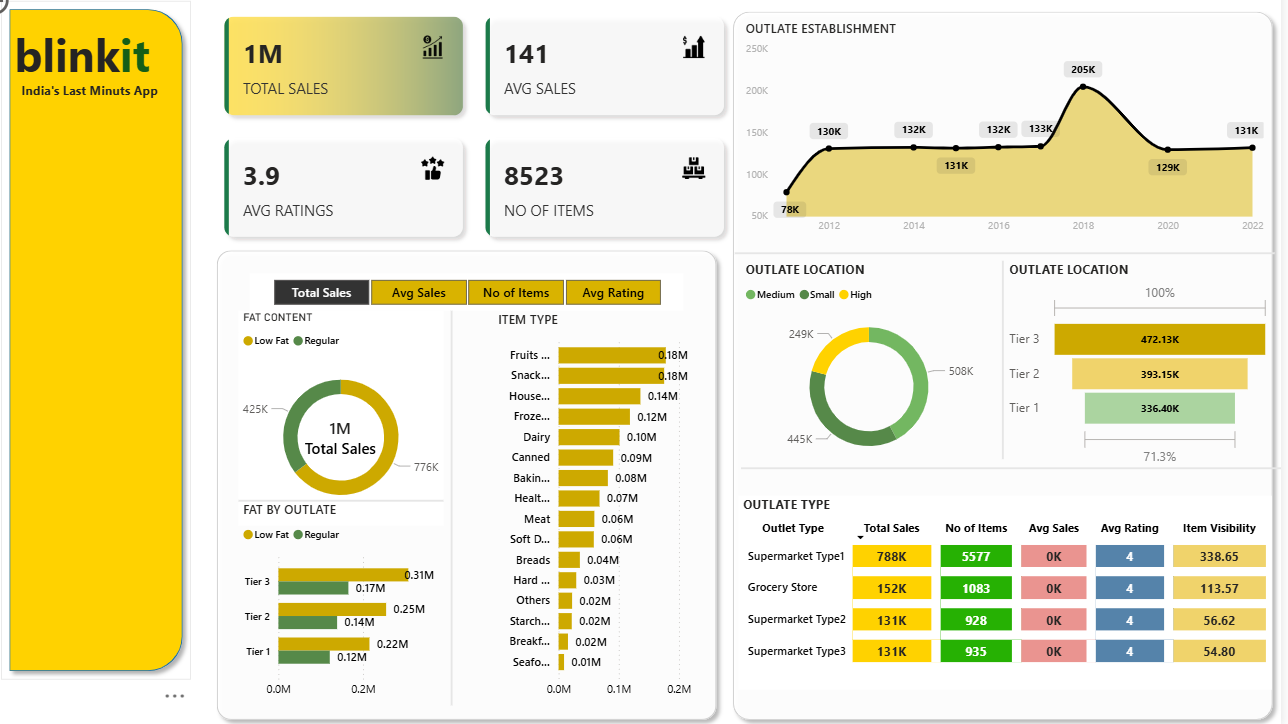

Layout of this report page (visuals, bound fields, positions):
{"tool":"powerbi","page":{"name":"Page 1","canvas":[1400,800],"ordinal":0},"visuals":[{"type":"shape","box":[26.8,20.1,203.8,727.9],"z":0},{"type":"textbox","box":[36.2,40.2,163.5,76.4],"z":1000},{"type":"textbox","box":[26.8,101.9,190.3,29.5],"z":2000},{"type":"cardVisual","fields":{"Data":["BlinkIT Grocery Data.Total Sales","BlinkIT Grocery Data.Avg Sales","BlinkIT Grocery Data.Avg Rating","BlinkIT Grocery Data.No of Items"]},"box":[249.3,20.1,571,270.8],"z":3000},{"type":"actionButton","box":[0,0,100,40],"z":4000},{"type":"shape","box":[249.3,278.8,553.6,521.5],"z":5000},{"type":"donutChart","title":"FAT CONTENT","fields":{"Y":["BlinkIT Grocery Data.Total Sales"],"Category":["BlinkIT Grocery Data.Item Fat Content"]},"box":[281.5,352.5,219.8,230.6],"z":6000},{"type":"slicer","fields":{"Values":["Metrics.Metrics"]},"box":[293.6,312.3,465.1,40.2],"z":7000},{"type":"cardVisual","fields":{"Data":["BlinkIT Grocery Data.Total Sales"]},"box":[335.1,449.1,111.3,75.1],"z":8000},{"type":"clusteredBarChart","title":"FAT BY OUTLATE","fields":{"Y":["BlinkIT Grocery Data.Total Sales"],"Category":["BlinkIT Grocery Data.Outlet Location Type"],"Series":["BlinkIT Grocery Data.Item Fat Content"]},"box":[281.5,556.3,229.2,219.8],"z":9000},{"type":"shape","box":[281.5,550.9,219.8,10.7],"z":10000},{"type":"shape","box":[504,352.5,12.1,423.6],"z":11000},{"type":"barChart","title":"ITEM TYPE","fields":{"Y":["BlinkIT Grocery Data.Total Sales"],"Category":["BlinkIT Grocery Data.Item Type"]},"box":[555,352.5,227.9,423.6],"z":12000},{"type":"shape","box":[803,22.8,596.5,752],"z":12001},{"type":"lineChart","title":"OUTLATE ESTABLISHMENT","fields":{"Y":["BlinkIT Grocery Data.Total Sales"],"Category":["BlinkIT Grocery Data.Outlet Establishment Year"]},"box":[820.4,40.2,565.7,238.6],"z":12002},{"type":"shape","box":[813.7,288.2,579.1,5.4],"z":12003},{"type":"donutChart","title":"OUTLATE LOCATION","fields":{"Y":["BlinkIT Grocery Data.Total Sales"],"Category":["BlinkIT Grocery Data.Outlet Size"]},"box":[820.4,298.9,274.8,225.2],"z":12004},{"type":"shape","box":[1095.2,298.9,12.1,213.1],"z":12005},{"type":"funnel","title":"OUTLATE LOCATION","fields":{"Y":["Sum(BlinkIT Grocery Data.Sales)"],"Category":["BlinkIT Grocery Data.Outlet Location Type"]},"box":[1103.2,298.9,289.5,225.2],"z":12006},{"type":"shape","box":[820.4,518.8,579.1,5.4],"z":12007},{"type":"pivotTable","title":"OUTLATE TYPE","fields":{"Rows":["BlinkIT Grocery Data.Outlet Type"],"Values":["BlinkIT Grocery Data.Total Sales","BlinkIT Grocery Data.No of Items","BlinkIT Grocery Data.Avg Sales","BlinkIT Grocery Data.Avg Rating","Sum(BlinkIT Grocery Data.Item Visibility)"]},"box":[817.7,550.9,572.4,207.8],"z":12008}]}

Visuals, with their boxes in screenshot pixels (x1, y1, x2, y2), scaled from the page's 1400x800 canvas onto the 1288x724 screenshot:
shape: locate(25, 18, 212, 677)
textbox: locate(33, 36, 184, 106)
textbox: locate(25, 92, 200, 119)
cardVisual - BlinkIT Grocery Data.Total Sales x BlinkIT Grocery Data.Avg Sales: locate(229, 18, 755, 263)
actionButton: locate(0, 0, 92, 36)
shape: locate(229, 252, 739, 723)
"FAT CONTENT" donutChart: locate(259, 319, 461, 528)
slicer - Metrics.Metrics: locate(270, 283, 698, 319)
cardVisual - BlinkIT Grocery Data.Total Sales: locate(308, 406, 411, 474)
"FAT BY OUTLATE" clusteredBarChart: locate(259, 503, 470, 702)
shape: locate(259, 499, 461, 508)
shape: locate(464, 319, 475, 702)
"ITEM TYPE" barChart: locate(511, 319, 720, 702)
shape: locate(739, 21, 1287, 701)
"OUTLATE ESTABLISHMENT" lineChart: locate(755, 36, 1275, 252)
shape: locate(749, 261, 1281, 266)
"OUTLATE LOCATION" donutChart: locate(755, 271, 1008, 474)
shape: locate(1008, 271, 1019, 463)
"OUTLATE LOCATION" funnel: locate(1015, 271, 1281, 474)
shape: locate(755, 470, 1287, 474)
"OUTLATE TYPE" pivotTable: locate(752, 499, 1279, 687)
